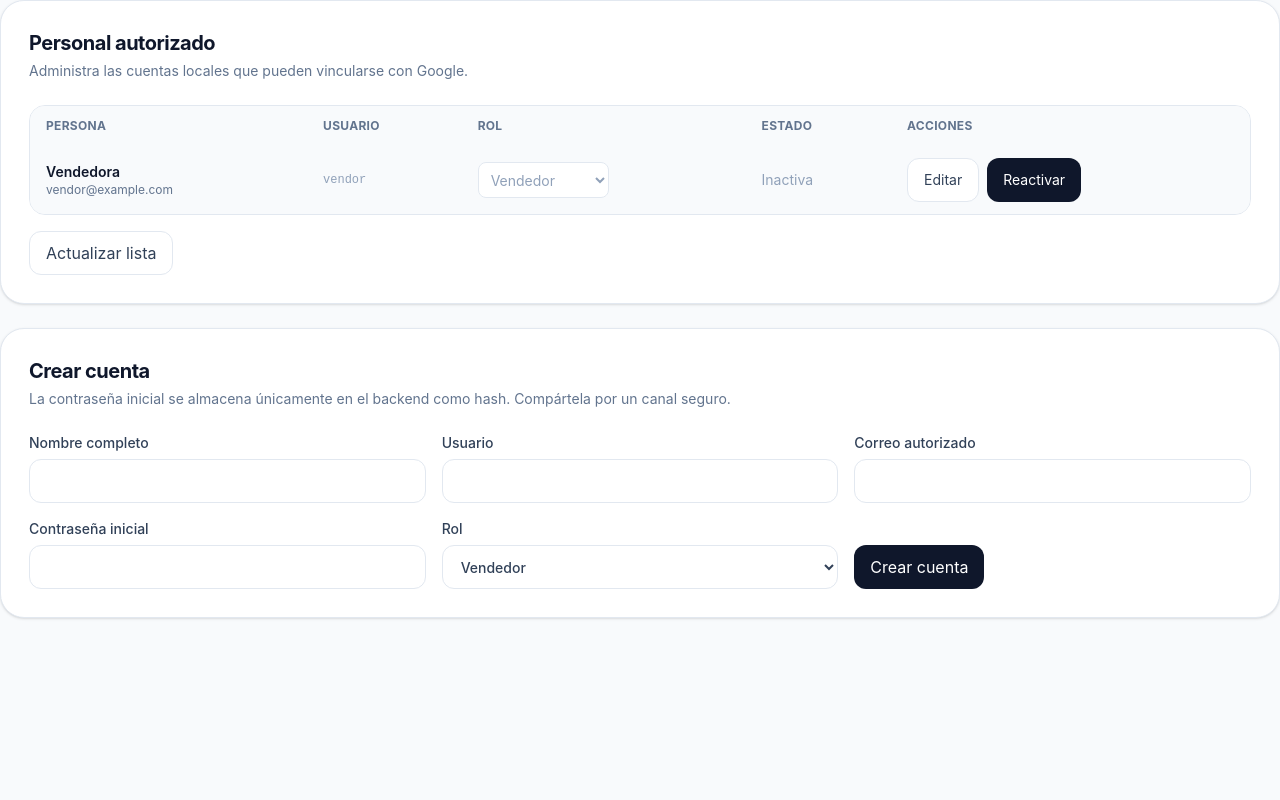
Test: reactivates an inactive account and refreshes its actions
Click the button "Reactivar" at (1034, 180), box [987,158,1081,202]
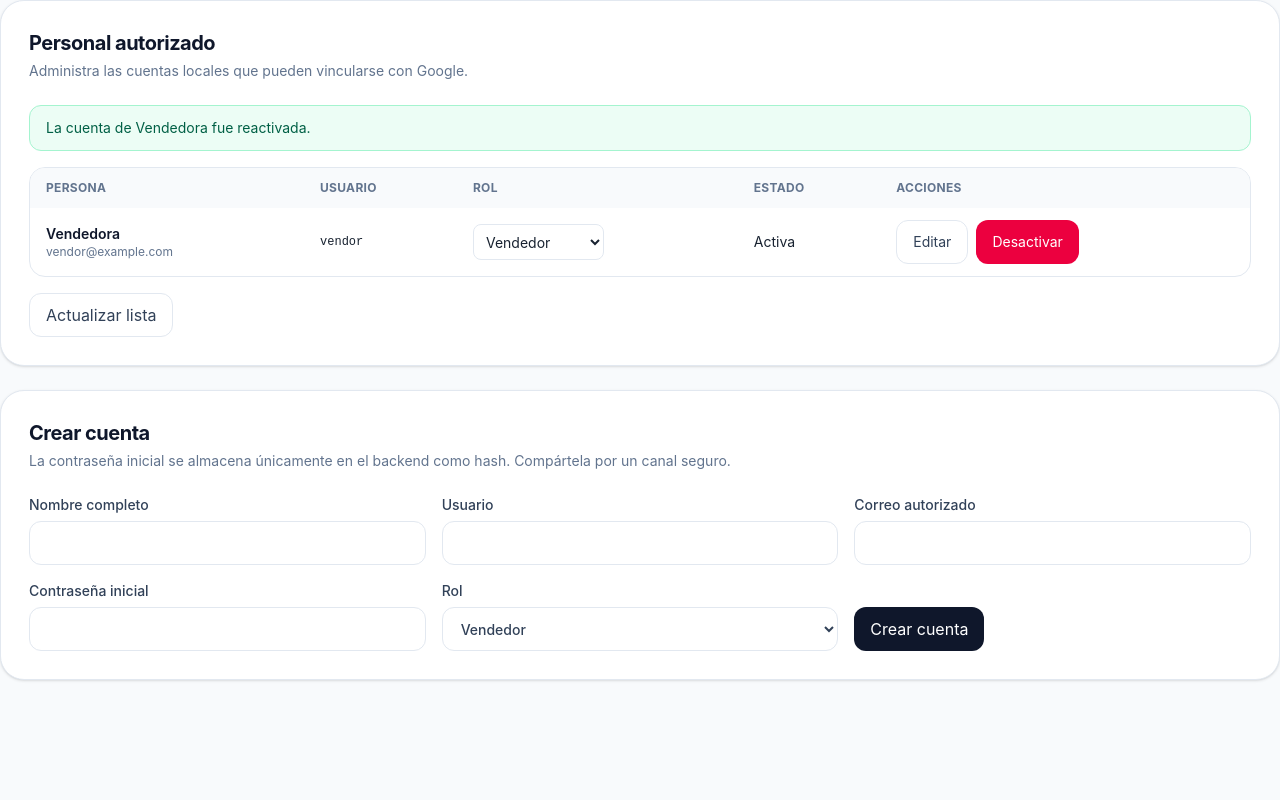
Expected: the text "Activa" is shown, [738,208,880,276]
Expected: the button "Desactivar" is shown, [976,220,1079,264]
